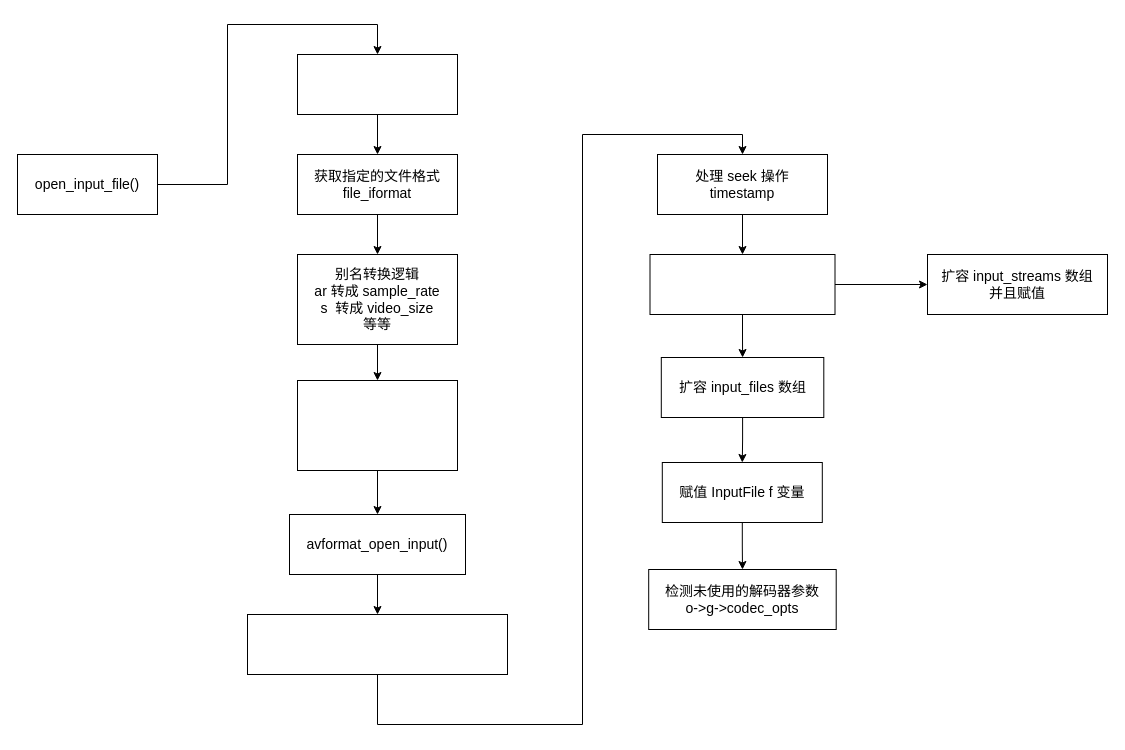
Image size: 1125x750. Some labels were removed from this diagram. The box of each missing label's shape, as (x1, y1, x2, y2) in pixels:
add_input_streams(o, ic): (649, 254, 835, 314)
检测有无未使用的容器参数 assert_avoptions(o->g->format_opts): (246, 614, 508, 674)
确定解码器 video_codec_name audio_codec_name 等等: (296, 380, 458, 470)
计算输入文件的时长 recording_time: (296, 54, 458, 114)
